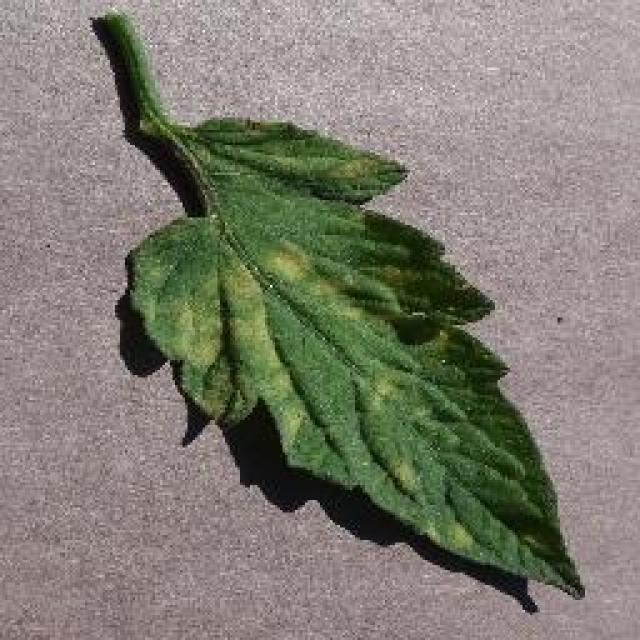Tomato___Leaf_Mold: (100, 12, 582, 595)
